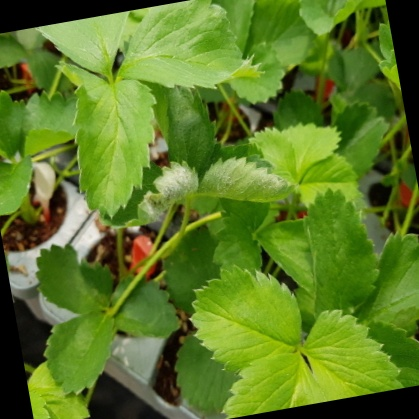Powdery_Leaf: (194, 160, 299, 214), (124, 155, 204, 215)
